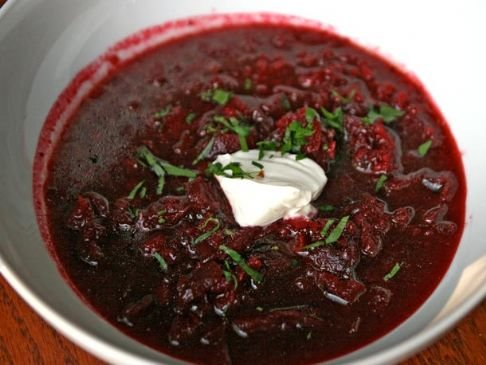sandwich: (11, 16, 473, 360)
